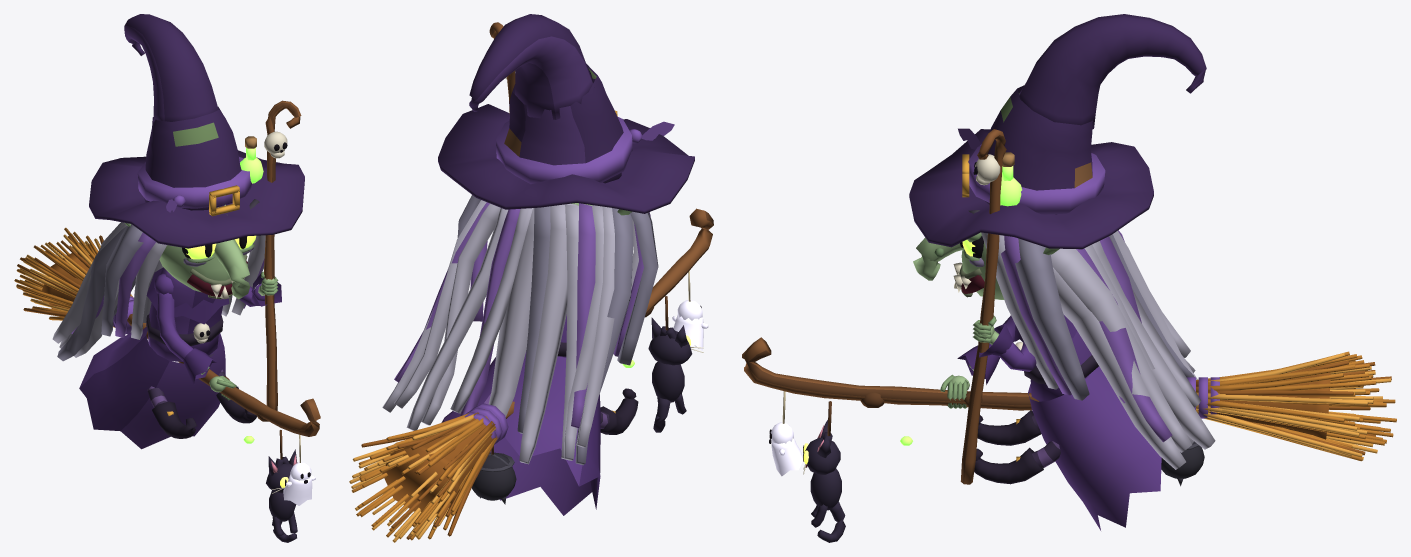
The model's file is witch.WITCH_LO_GLB.glb.
3 renders of one model, left to right at view 1: azimuth 30°, elevation 25°; view 2: azimuth 150°, elevation 25°; view 3: azimuth 270°, elevation 25°, orthographic. The views are drawn at different scales.
Parts seen in each view (by area): view 1: body, hem, hair, hat_tip, bristles, cat, charm; view 2: hair, body, bristles, hem, hat_tip, cat, cauldron, charm; view 3: body, hair, hem, bristles, hat_tip, cat, charm, cauldron.
Part boxes in pixels (x1=…): body: x1=42, y1=100, x2=320, y2=436; hem: x1=79, y1=327, x2=256, y2=449; hair: x1=52, y1=222, x2=265, y2=361; hat_tip: x1=124, y1=14, x2=218, y2=122; bristles: x1=14, y1=227, x2=133, y2=327; cat: x1=266, y1=430, x2=297, y2=536; charm: x1=283, y1=434, x2=315, y2=505; hair: x1=382, y1=195, x2=658, y2=465; body: x1=382, y1=22, x2=713, y2=513; bristles: x1=349, y1=409, x2=498, y2=542; hem: x1=441, y1=351, x2=638, y2=515; hat_tip: x1=469, y1=14, x2=593, y2=119; cat: x1=648, y1=296, x2=703, y2=414; cauldron: x1=472, y1=360, x2=634, y2=504; charm: x1=672, y1=270, x2=708, y2=350; body: x1=742, y1=85, x2=1330, y2=484; hair: x1=981, y1=230, x2=1215, y2=469; hem: x1=974, y1=366, x2=1161, y2=530; bristles: x1=1196, y1=351, x2=1396, y2=461; hat_tip: x1=1019, y1=14, x2=1206, y2=129; cat: x1=803, y1=401, x2=841, y2=527; charm: x1=769, y1=391, x2=803, y2=476; cauldron: x1=900, y1=436, x2=1204, y2=486.
Bounding box in the file's own units: 1.96 × 4.3 × 4.9.
1 material, 1 textured.
